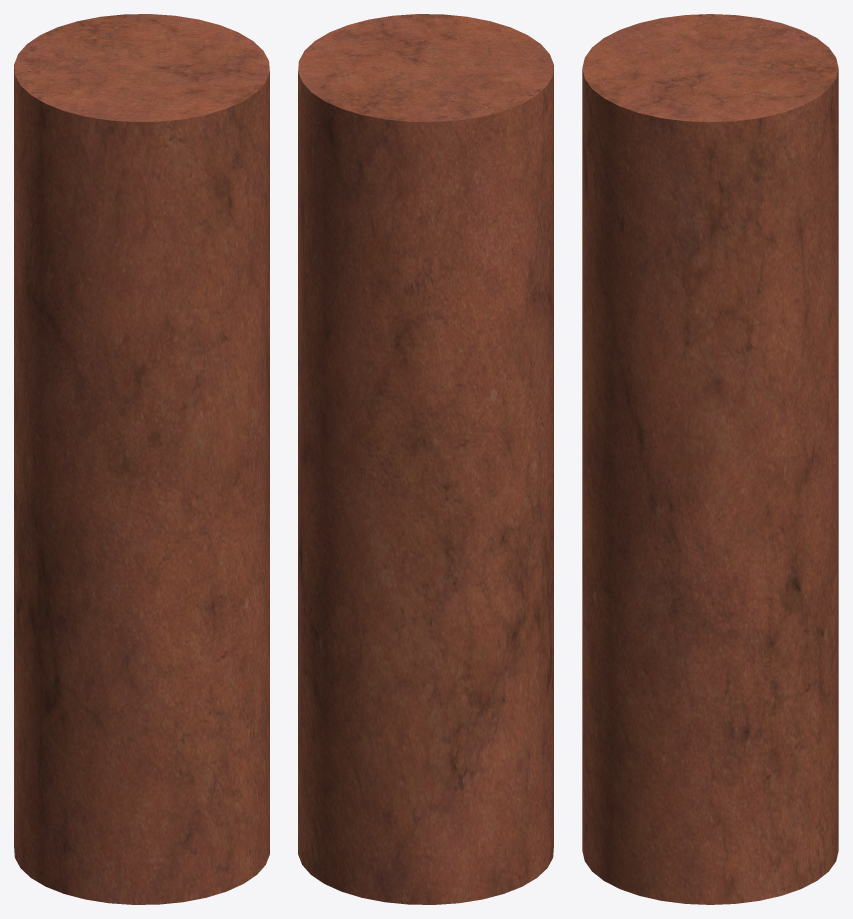
The model's file is SimplePillar-pwood.glb.
3 renders of one model, left to right at view 1: azimuth 30°, elevation 25°; view 2: azimuth 150°, elevation 25°; view 3: azimuth 270°, elevation 25°, orthographic.
Visible parts, largest first — view 1: Pillar; view 2: Pillar; view 3: Pillar.
Boxes of the visible parts, x1,y1,x2,y2 form: Pillar: (14,14,269,904); Pillar: (298,14,553,904); Pillar: (582,14,838,904).
Bounding box in the file's own units: 0.8903 × 3 × 0.8903.
Materials: 1 (1 with a texture image).
